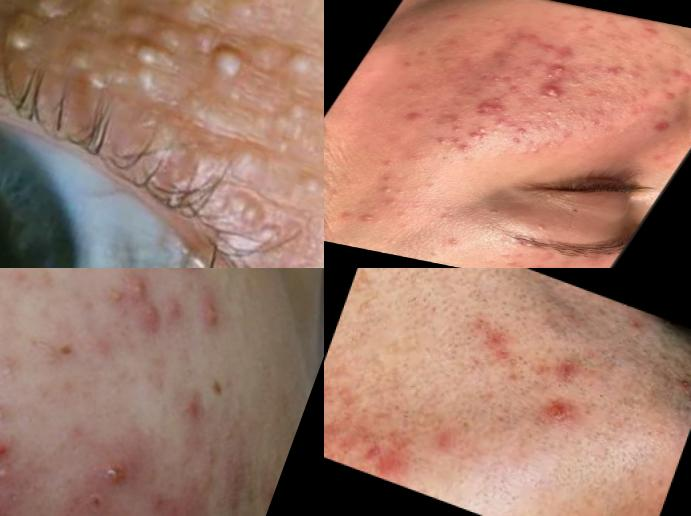milium: (1, 1, 325, 177), (163, 122, 325, 265)
papular: (163, 372, 226, 438), (533, 389, 581, 434), (185, 283, 225, 330), (541, 44, 586, 69), (125, 269, 155, 301), (138, 297, 161, 331), (643, 117, 679, 136), (599, 63, 634, 82), (396, 109, 428, 124), (440, 114, 471, 129), (659, 67, 687, 81), (482, 73, 511, 86), (657, 91, 683, 104), (640, 26, 665, 39), (674, 67, 691, 85), (538, 43, 561, 55), (504, 86, 525, 97)
purulent: (90, 443, 130, 489), (347, 209, 387, 230), (466, 123, 501, 145), (546, 61, 579, 79), (537, 70, 563, 83), (511, 125, 535, 138), (505, 135, 529, 147), (1, 433, 11, 459), (455, 144, 477, 155), (450, 137, 469, 147), (434, 137, 452, 147), (448, 125, 466, 135)
sebo-crystan-conglo: (461, 96, 511, 120), (529, 83, 575, 103), (1, 463, 11, 501)
whitehead: (364, 182, 416, 210), (615, 59, 652, 87), (490, 247, 534, 269), (529, 217, 567, 239), (434, 234, 468, 254), (535, 105, 565, 121), (489, 115, 518, 130), (569, 110, 594, 123), (658, 41, 686, 52), (403, 25, 424, 37), (579, 25, 601, 36), (561, 106, 581, 118), (585, 43, 601, 52), (641, 53, 657, 62), (678, 51, 691, 62)
